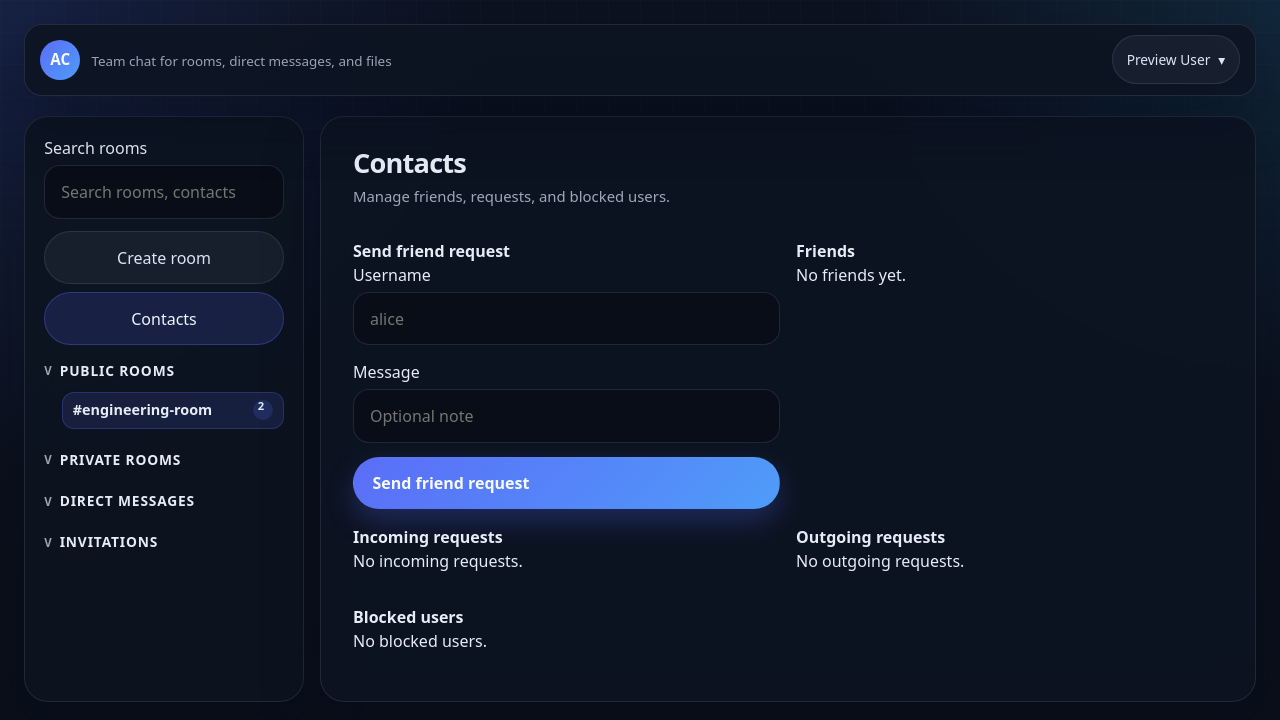
Scenario: App routes › navigates to the chat workspace when a room is clicked from contacts
Click the button "#engineering-room 2".
click(173, 410)  # box [62,392,284,429]
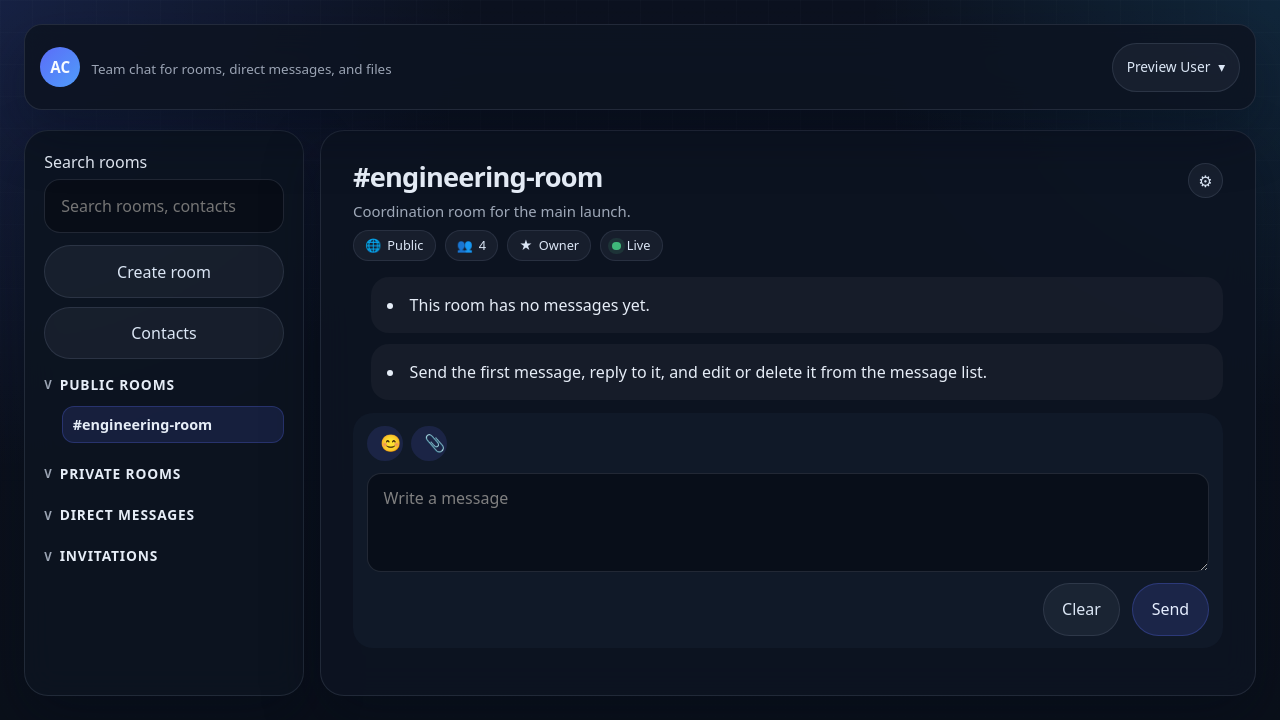
Now the heading "#engineering-room" is shown, box [353,158,603,195]
